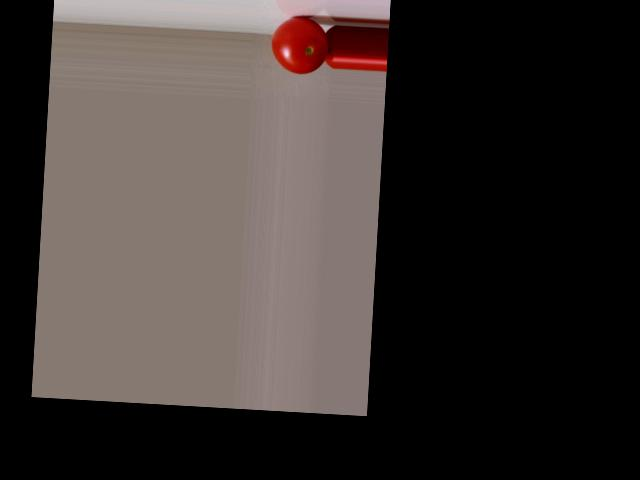tomato: (270, 16, 329, 75)
